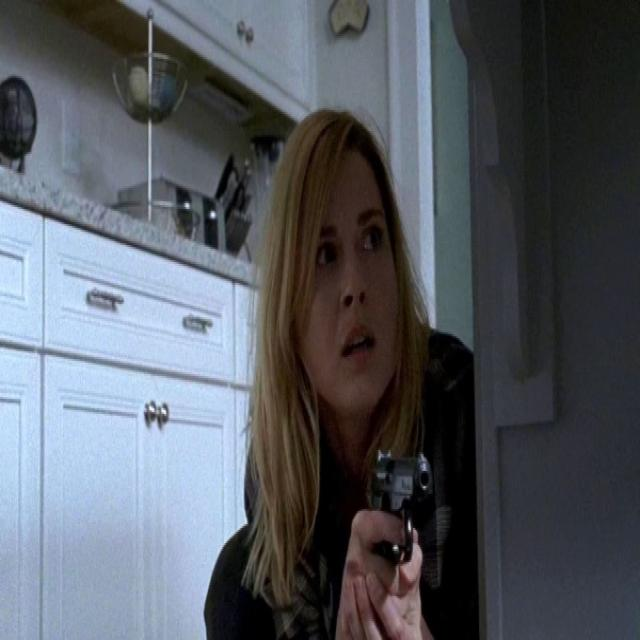weapons: (360, 436, 442, 612)
